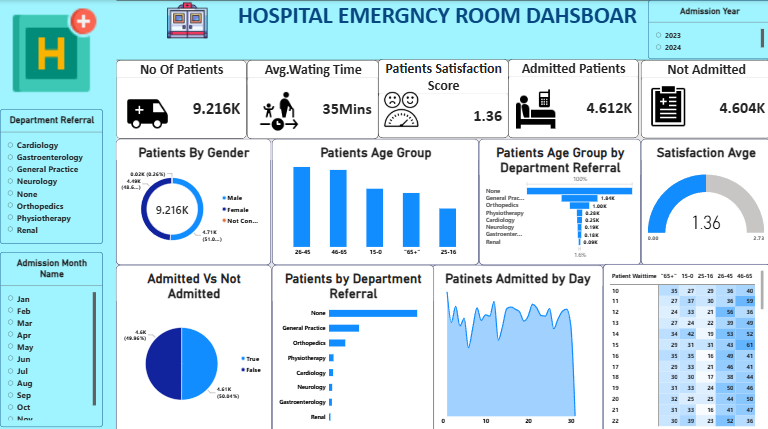

Layout of this report page (visuals, bound fields, positions):
{"tool":"powerbi","page":{"name":"Page 1","canvas":[1920,1080],"ordinal":0},"visuals":[{"type":"textbox","box":[255.4,0,1664.8,150.1],"z":0},{"type":"cardVisual","title":"No Of Patients","fields":{"Data":["CountNonNull(Hospital ER_Data.Patient Id)"]},"box":[289,150.1,325,196],"z":1000},{"type":"image","box":[289,228.5,156.2,100.8],"z":2000},{"type":"cardVisual","title":"Avg.Waiting Time","fields":{"Data":["Hospital ER_Data.Display Waiting Time"]},"box":[613.9,150.1,327.6,196.5],"z":3000},{"type":"cardVisual","title":"Patients Satisfaction Score","fields":{"Data":["Hospital ER_Data.Satisfaction Avge"]},"box":[941.1,147.9,325,196.5],"z":4000},{"type":"cardVisual","title":"Admitted Patients","fields":{"Data":["CountNonNull(Hospital ER_Data.Patient Admission Flag)"]},"box":[1266,147.9,325,196.5],"z":5000},{"type":"cardVisual","title":"Not Admitted ","fields":{"Data":["CountNonNull(Hospital ER_Data.Patient Admission Flag)"]},"box":[1595.4,150.1,325,194.9],"z":6000},{"type":"image","box":[941.1,224.1,115.9,93.2],"z":7000},{"type":"textbox","box":[0,0,289.8,1080.9],"z":8000},{"type":"image","box":[1286.1,203.9,98.3,133.5],"z":9000},{"type":"image","box":[1613.3,212.9,100.8,105.8],"z":10000},{"type":"image","box":[643.1,212.9,103.3,133.5],"z":11000},{"type":"image","box":[0,0,256.5,266.5],"z":12000},{"type":"image","box":[386,0,161.3,100.8],"z":13000},{"type":"listSlicer","fields":{"Values":["Hospital ER_Data.Admission Year"]},"box":[1613.7,0,306.3,146.9],"z":14000},{"type":"listSlicer","fields":{"Values":["Hospital ER_Data.Department Referral"]},"box":[0,271.4,256.5,336.2],"z":15000},{"type":"listSlicer","fields":{"Values":["Hospital ER_Data.Admission Month Name"]},"box":[0,627.5,256.5,435.8],"z":16000},{"type":"donutChart","title":"Patients By Gender","fields":{"Category":["Hospital ER_Data.Patient Gender"],"Y":["CountNonNull(Hospital ER_Data.Patient Id)"]},"box":[288.9,346.1,353.6,313.8],"z":17000},{"type":"pieChart","title":"Admitted Vs Not Admitted","fields":{"Category":["Hospital ER_Data.Admission Status"],"Y":["CountNonNull(Hospital ER_Data.Patient Id)"]},"box":[288.9,659.9,353.6,420.9],"z":18000},{"type":"clusteredColumnChart","title":" Patients Age Group","fields":{"Y":["CountNonNull(Hospital ER_Data.Patient Id)"],"Category":["Hospital ER_Data.Patients Age Group"]},"box":[645,346.1,385,313.8],"z":19000},{"type":"areaChart","title":"Patients Admitted by Day","fields":{"Category":["Hospital ER_Data.Admission Date"],"Y":["CountNonNull(Hospital ER_Data.Patient Id)"]},"box":[1031,659.9,351.1,420.9],"z":20000},{"type":"funnel","title":"Patients Volume by Department Referral","fields":{"Category":["Hospital ER_Data.Department Referral","Hospital ER_Data.Patients Age Group"],"Y":["CountNonNull(Hospital ER_Data.Patient Age)"]},"box":[1382.1,346.1,537.9,313.8],"z":21000},{"type":"clusteredBarChart","title":"Patients by Department Referral","fields":{"Category":["Hospital ER_Data.Department Referral"],"Y":["CountNonNull(Hospital ER_Data.Patient Id)"]},"box":[642.5,659.9,388.5,420.9],"z":22000},{"type":"gauge","title":"Avg. Satisfaction","fields":{"Y":["Hospital ER_Data.Satisfaction Avge"]},"box":[1031,346.1,351.1,313.8],"z":23000},{"type":"pivotTable","title":"Patient distribution by Wait Time & Age Group","fields":{"Rows":["Hospital ER_Data.Patient Waittime"],"Columns":["Hospital ER_Data.Patients Age Group"],"Values":["CountNonNull(Hospital ER_Data.Patient Admission Flag)"]},"box":[1382.1,659.9,537.9,420.9],"z":24000}]}

Visuals, with their boxes in screenshot pixels (x1, y1, x2, y2), scaled from the page's 1920x1080 canvas onto the 768x429 screenshot:
textbox: (left=102, top=0, right=767, bottom=60)
"No Of Patients" cardVisual: (left=116, top=60, right=246, bottom=137)
image: (left=116, top=91, right=178, bottom=131)
"Avg.Waiting Time" cardVisual: (left=246, top=60, right=377, bottom=138)
"Patients Satisfaction Score" cardVisual: (left=376, top=59, right=506, bottom=137)
"Admitted Patients" cardVisual: (left=506, top=59, right=636, bottom=137)
"Not Admitted " cardVisual: (left=638, top=60, right=767, bottom=137)
image: (left=376, top=89, right=423, bottom=126)
textbox: (left=0, top=0, right=116, bottom=428)
image: (left=514, top=81, right=554, bottom=134)
image: (left=645, top=85, right=686, bottom=127)
image: (left=257, top=85, right=299, bottom=138)
image: (left=0, top=0, right=103, bottom=106)
image: (left=154, top=0, right=219, bottom=40)
listSlicer - Hospital ER_Data.Admission Year: (left=645, top=0, right=767, bottom=58)
listSlicer - Hospital ER_Data.Department Referral: (left=0, top=108, right=103, bottom=241)
listSlicer - Hospital ER_Data.Admission Month Name: (left=0, top=249, right=103, bottom=422)
"Patients By Gender" donutChart: (left=116, top=137, right=257, bottom=262)
"Admitted Vs Not Admitted" pieChart: (left=116, top=262, right=257, bottom=428)
" Patients Age Group" clusteredColumnChart: (left=258, top=137, right=412, bottom=262)
"Patients Admitted by Day" areaChart: (left=412, top=262, right=553, bottom=428)
"Patients Volume by Department Referral" funnel: (left=553, top=137, right=767, bottom=262)
"Patients by Department Referral" clusteredBarChart: (left=257, top=262, right=412, bottom=428)
"Avg. Satisfaction" gauge: (left=412, top=137, right=553, bottom=262)
"Patient distribution by Wait Time & Age Group" pivotTable: (left=553, top=262, right=767, bottom=428)
